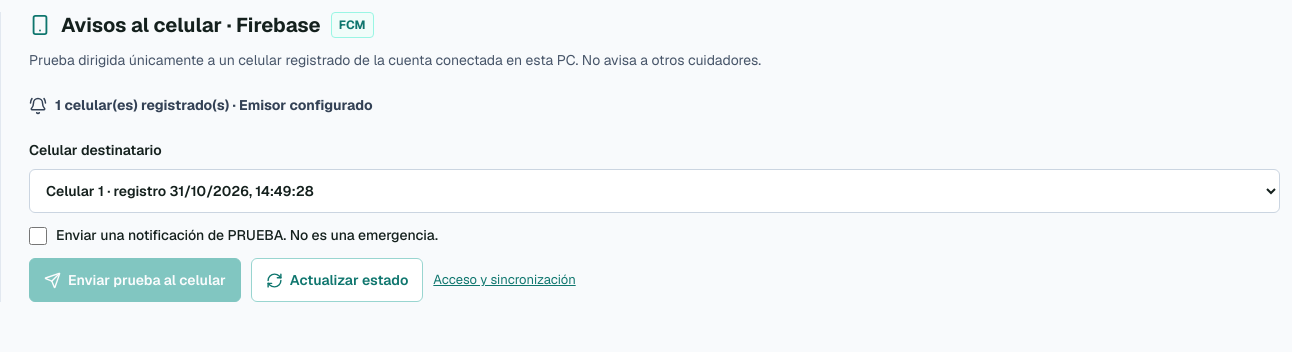
Test: does not send on mount and requires an explicit test confirmation
expect the dropdown labelled "Celular destinatario" is shown: met, box [29,169,1280,213]
expect the button "Enviar prueba al celular" is disabled: met, box [29,258,241,302]
Step 1. Click the checkbox → (38, 236), box [29,227,47,245]
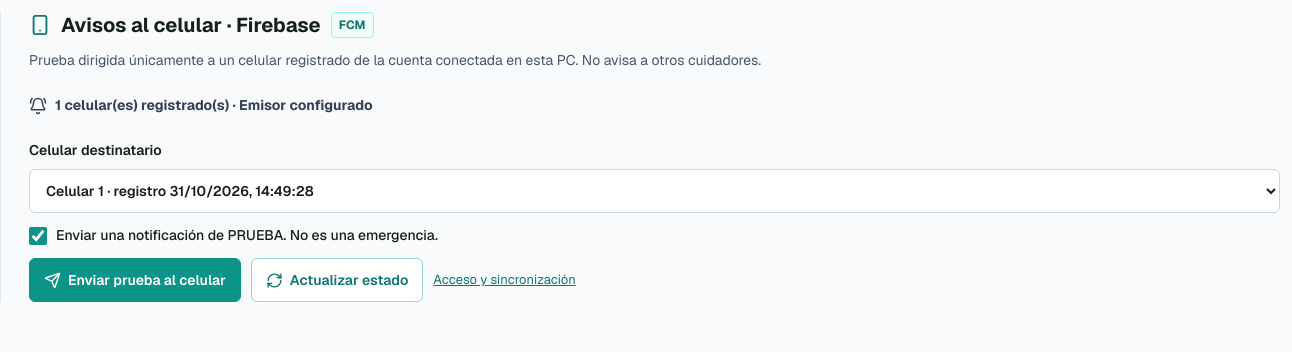
Step 2. Click the button "Enviar prueba al celular" → (135, 280), box [29,258,241,302]
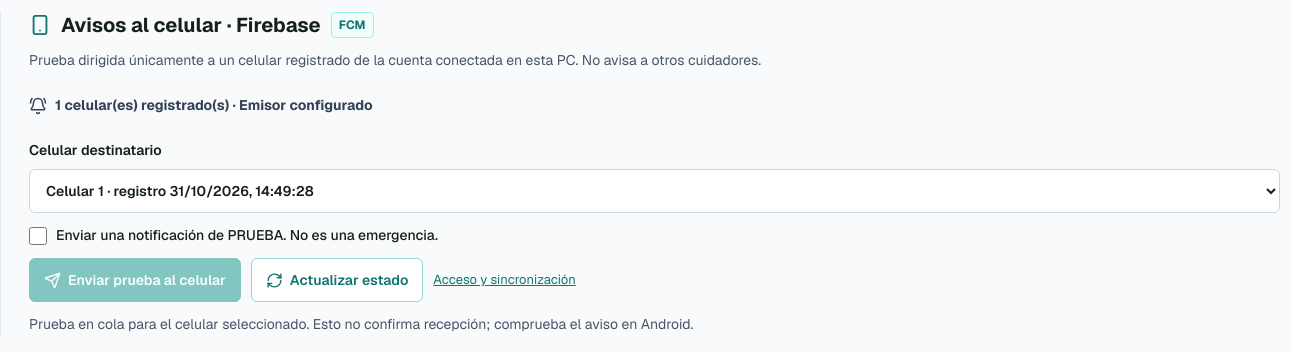
expect the text "Prueba en cola para el celular seleccionado" is shown: met, box [29,315,693,333]
